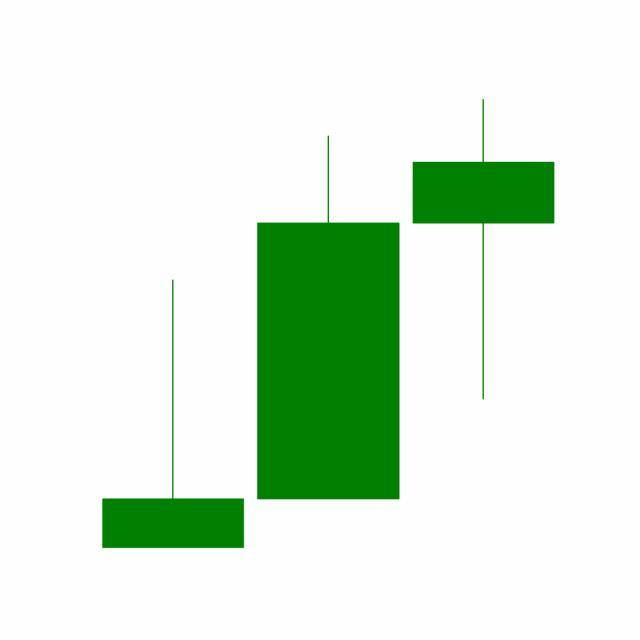Spinning Top: (406, 97, 562, 404)
